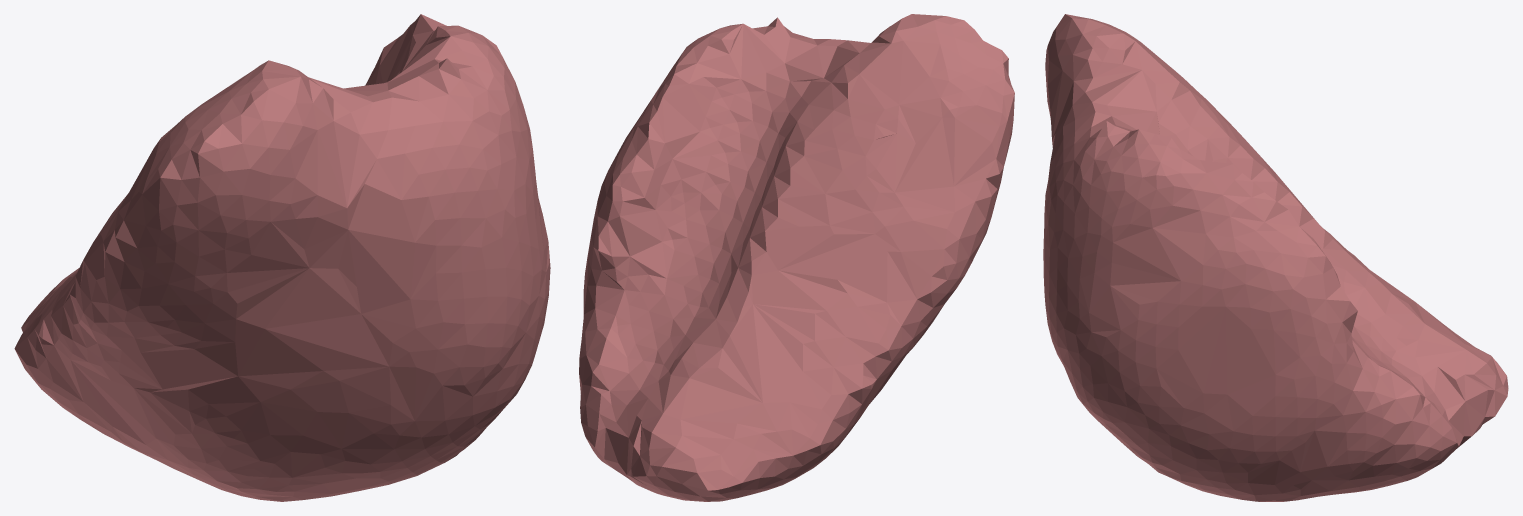
The model's file is Model_10526_LH__Reticulotegmental_nucleus_of_the_pons_(RtTg).obj.
3 renders of one model, left to right at view 1: azimuth 30°, elevation 25°; view 2: azimuth 150°, elevation 25°; view 3: azimuth 270°, elevation 25°, orthographic. The views are drawn at different scales.
Bounding box in the file's own units: 1.61 × 1.8 × 1.9.
